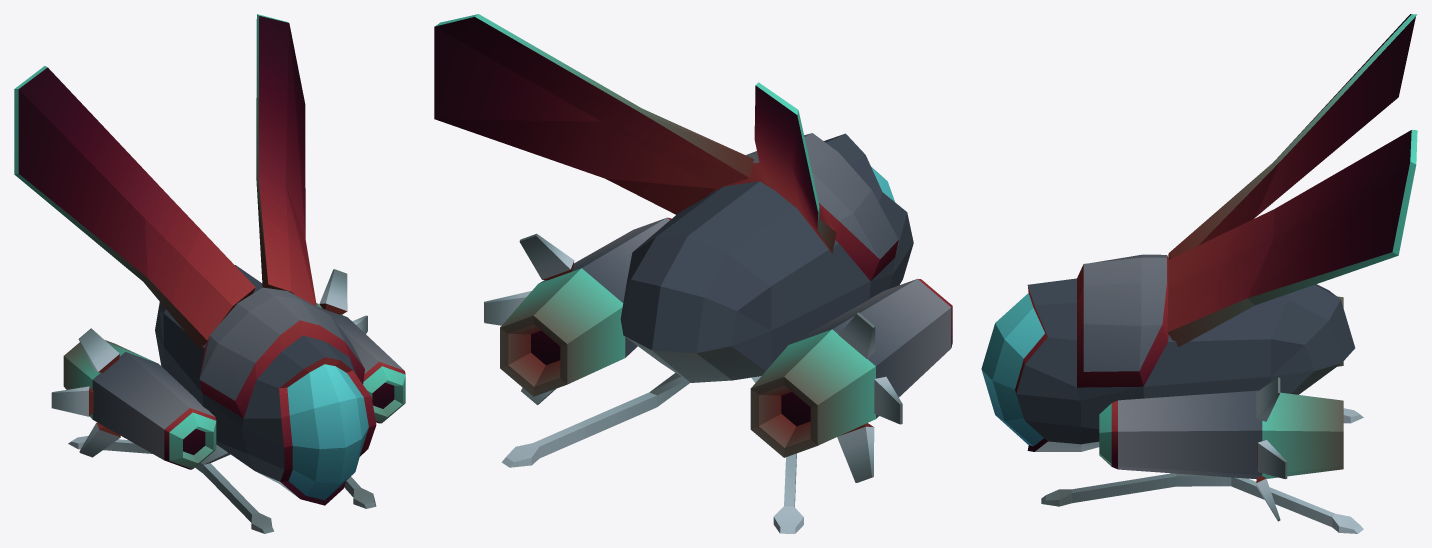
The model's file is Spaceship_skin1.FBX.
3 renders of one model, left to right at view 1: azimuth 30°, elevation 25°; view 2: azimuth 150°, elevation 25°; view 3: azimuth 270°, elevation 25°, orthographic. The views are drawn at different scales.
Parts seen in each view (by area): view 1: spaceship, wing002, wing001, reactor002, reactor001, landing_gear002, flaps006, flaps007, flaps004, flaps008, landing_gear001; view 2: spaceship, wing001, reactor002, reactor001, wing002, landing_gear001, flaps008, flaps004, landing_gear002, flaps007, flaps006, flaps003; view 3: spaceship, wing001, reactor001, wing002, landing_gear001, flaps003, flaps004.
Part boxes in pixels (left/top/right/bottom): spaceship: left=155, top=265, right=376, bottom=505; wing002: left=14, top=66, right=255, bottom=349; wing001: left=256, top=14, right=316, bottom=306; reactor002: left=63, top=340, right=216, bottom=469; reactor001: left=316, top=303, right=405, bottom=423; landing_gear002: left=68, top=435, right=274, bottom=533; flaps006: left=51, top=386, right=93, bottom=416; flaps007: left=78, top=328, right=119, bottom=372; flaps004: left=319, top=269, right=347, bottom=314; flaps008: left=79, top=422, right=120, bottom=457; landing_gear001: left=344, top=476, right=376, bottom=508; spaceship: left=620, top=133, right=913, bottom=382; wing001: left=434, top=14, right=753, bottom=214; reactor002: left=750, top=278, right=952, bottom=457; reactor001: left=500, top=217, right=671, bottom=396; wing002: left=754, top=82, right=836, bottom=253; landing_gear001: left=501, top=373, right=690, bottom=467; flaps008: left=837, top=423, right=874, bottom=482; flaps004: left=519, top=233, right=574, bottom=279; landing_gear002: left=751, top=376, right=803, bottom=533; flaps007: left=838, top=312, right=875, bottom=358; flaps006: left=874, top=376, right=902, bottom=424; flaps003: left=484, top=291, right=531, bottom=325; spaceship: left=981, top=254, right=1355, bottom=451; wing001: left=1167, top=130, right=1417, bottom=346; reactor001: left=1099, top=390, right=1343, bottom=479; wing002: left=1168, top=14, right=1417, bottom=259; landing_gear001: left=1041, top=473, right=1363, bottom=533; flaps003: left=1257, top=440, right=1287, bottom=479; flaps004: left=1256, top=377, right=1280, bottom=421.
Size of the model in its own units: 8.36 by 9.04 by 8.92.
